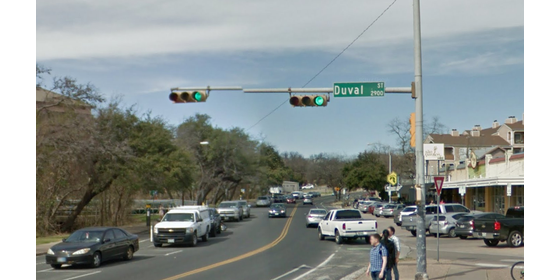street name sign: (332, 79, 386, 98)
